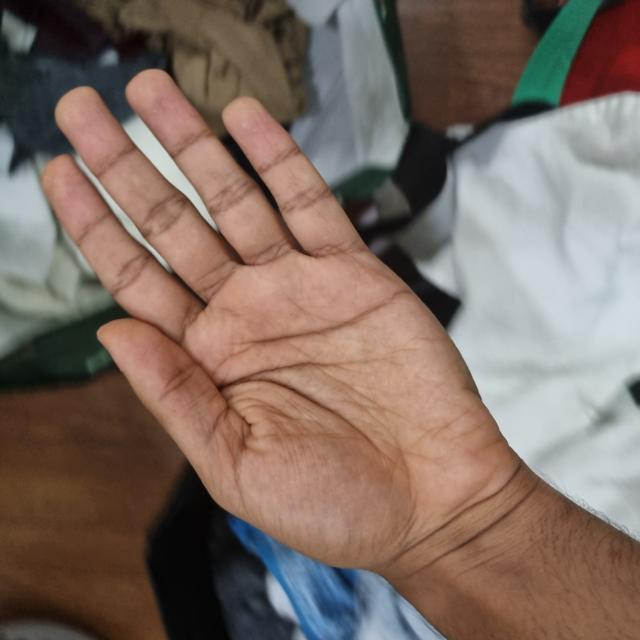Paper: (67, 40, 567, 492)
